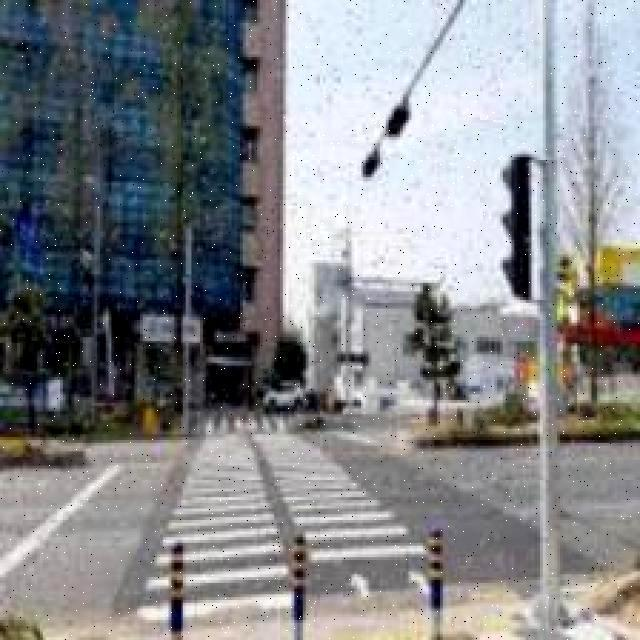crosswalk: (128, 428, 431, 635)
